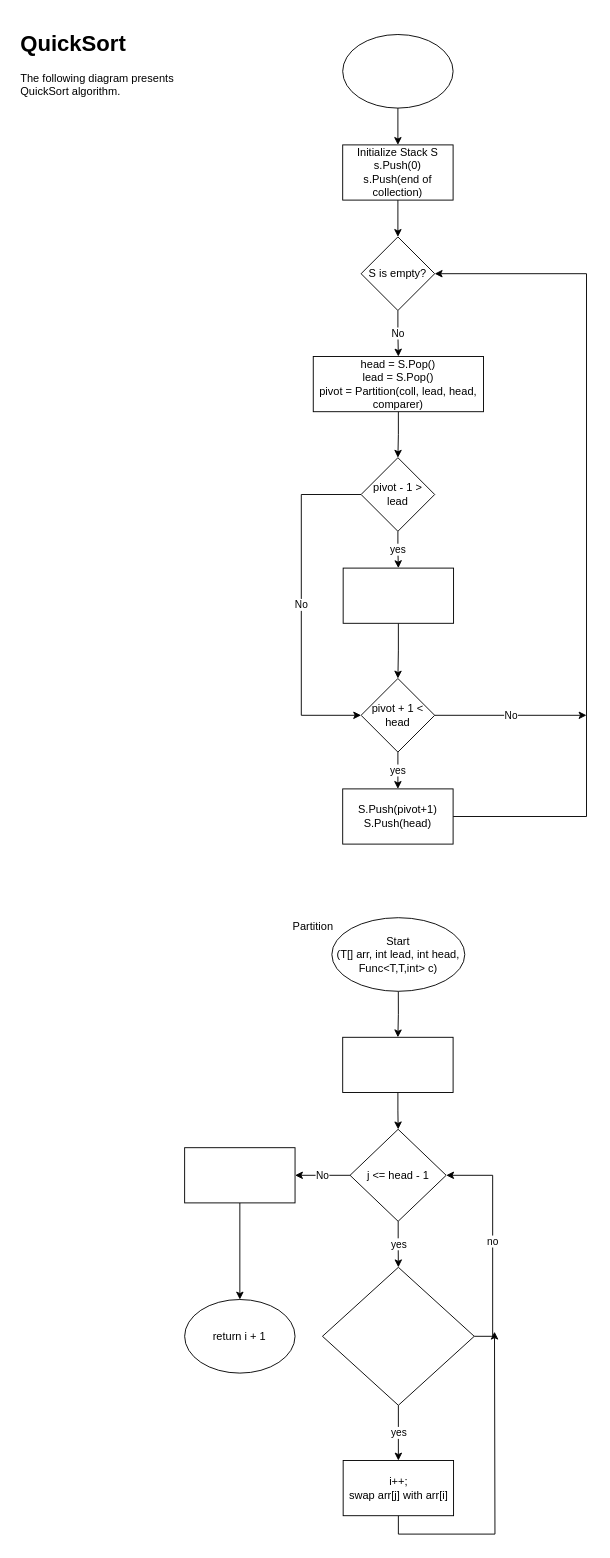
Image size: 610x1558. Some labels were removed from this diagram. The shapes that lost their labels are listed below. From the top down, each one's box as (x1, y1, x2, y2) in pixels, then its label:
(342, 34, 453, 108): Start (T[] coll, Func<T,T,int> comparer)
(342, 567, 454, 623): S.Push(lead) S.Push(pivot - 1)
(342, 1036, 453, 1092): T val = arr[head] i = lead - 1 j = l
(184, 1147, 295, 1203): swap arr[i+1] with arr[head]
(322, 1266, 474, 1405): Compare arr[j] with val using c if <= 0
